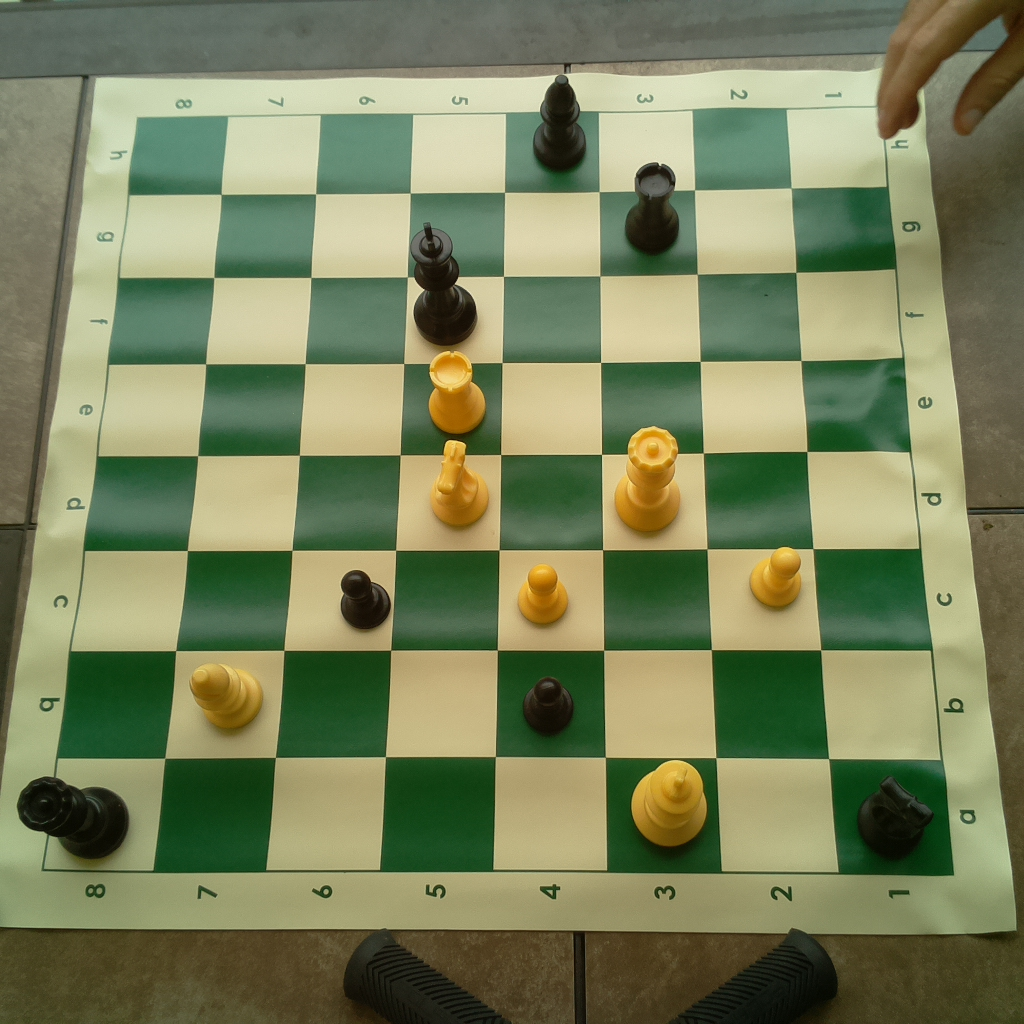black_bishop: (529, 71, 592, 171)
black_king: (405, 215, 481, 347)
black_knight: (855, 771, 937, 858)
black_pawn: (518, 673, 579, 735), (336, 562, 392, 628)
black_queen: (5, 771, 136, 860)
black_rook: (618, 156, 684, 258)
file_a: (44, 757, 957, 877)
file_b: (58, 653, 946, 760)
file_c: (68, 551, 933, 649)
file_d: (83, 452, 920, 548)
file_e: (96, 356, 911, 453)
file_f: (111, 270, 903, 362)
file_g: (118, 187, 897, 280)
file_h: (127, 106, 889, 188)
outline: (44, 105, 954, 875)
rank_1: (788, 106, 953, 877)
rank_2: (693, 108, 842, 873)
rank_3: (599, 108, 725, 873)
rank_4: (492, 110, 610, 874)
rank_5: (379, 114, 505, 869)
rank_6: (267, 117, 415, 873)
rank_7: (153, 115, 320, 874)
rank_8: (44, 115, 229, 871)
white_bishop: (181, 657, 264, 728)
white_king: (623, 756, 711, 848)
white_knight: (421, 438, 493, 532)
white_pawn: (747, 539, 810, 612), (516, 561, 573, 628)
white_queen: (618, 423, 686, 531)
white_rook: (416, 351, 493, 436)
